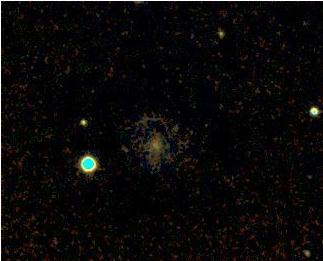star: (293, 157, 323, 187)
